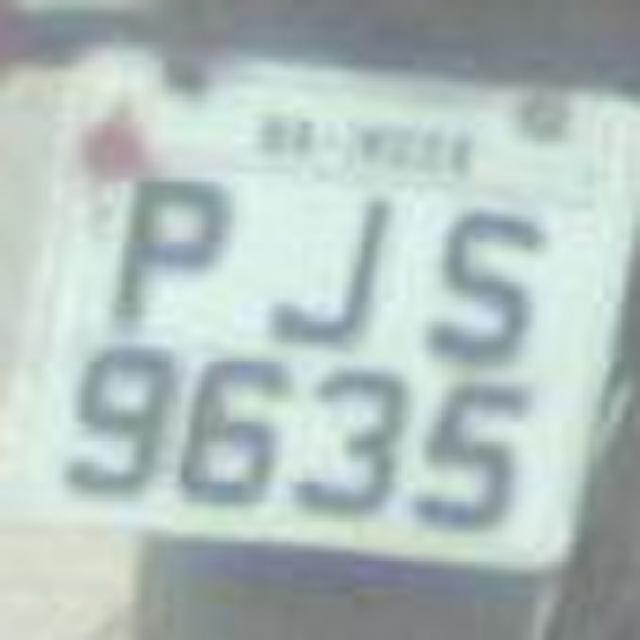3: (276, 344, 449, 524)
5: (405, 335, 560, 520)
6: (155, 348, 320, 528)
9: (40, 332, 205, 532)
J: (252, 172, 396, 356)
P: (80, 172, 232, 352)
S: (400, 188, 552, 360)
